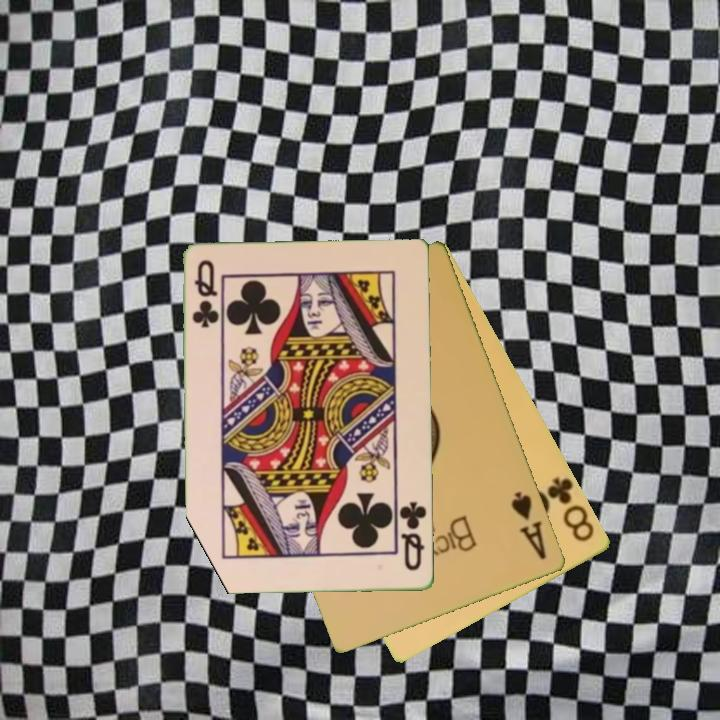8c: (540, 473, 598, 545)
As: (508, 488, 550, 563)
Qc: (396, 498, 430, 575), (189, 257, 221, 331)
